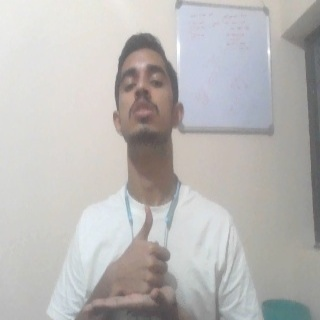Face: (110, 31, 185, 150)
Help: (81, 204, 179, 316)
